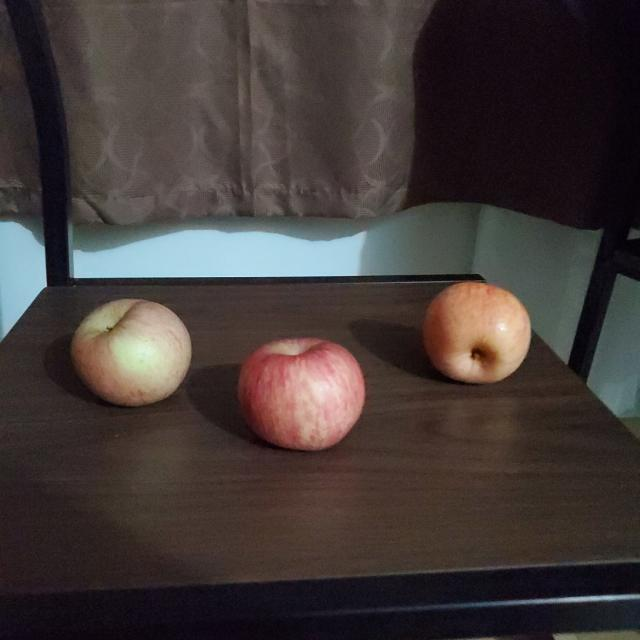apple: (238, 339, 366, 451), (71, 298, 192, 404), (425, 282, 533, 382)
